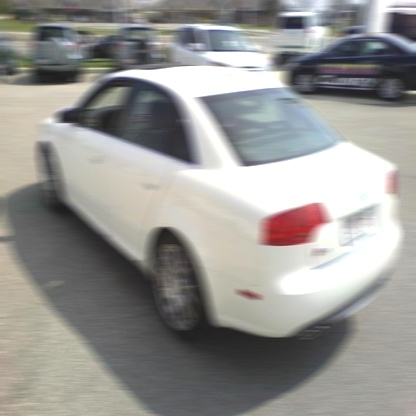Vehicle: (40, 64, 399, 349)
